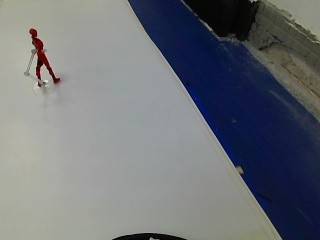pedestrian: (23, 26, 66, 90)
